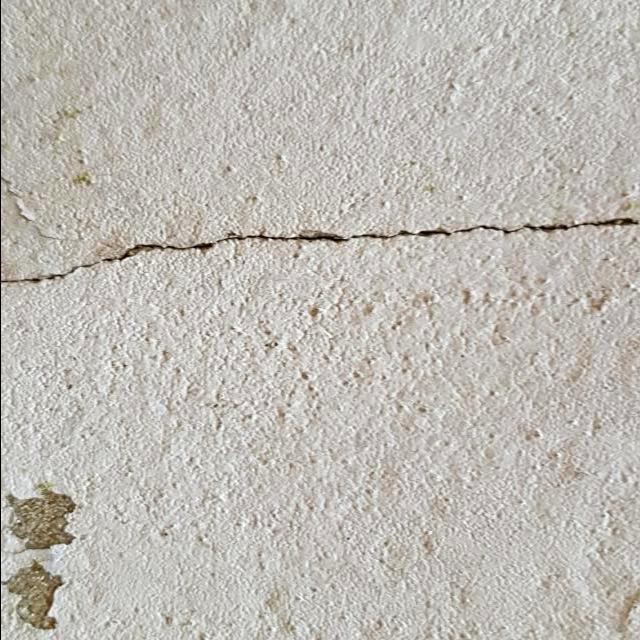SurfaceCrack: (1, 169, 639, 321)
